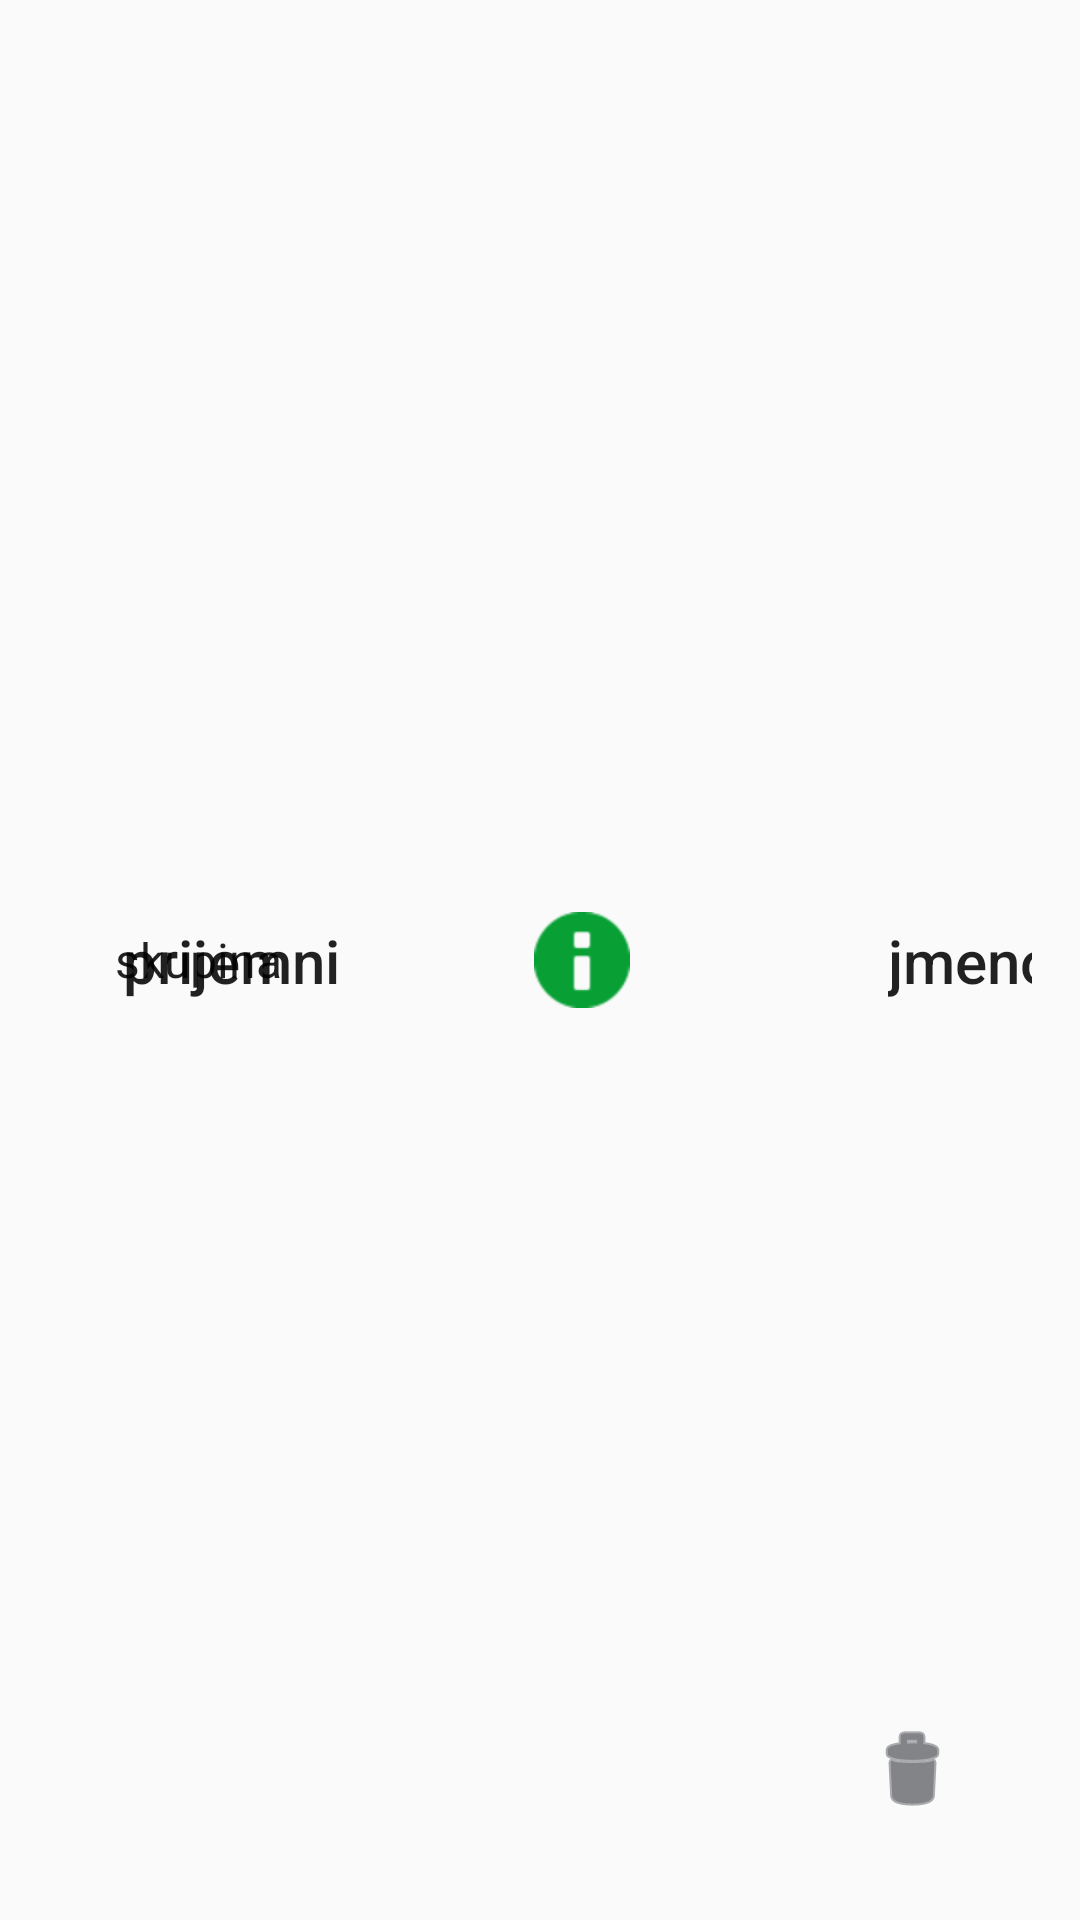

Where icons sit on this 1080 x 1920 app screen, as bbox=[x1, y1, x2, y2]:
delete: bbox=[885, 1731, 940, 1806]
info: bbox=[534, 912, 630, 1008]
